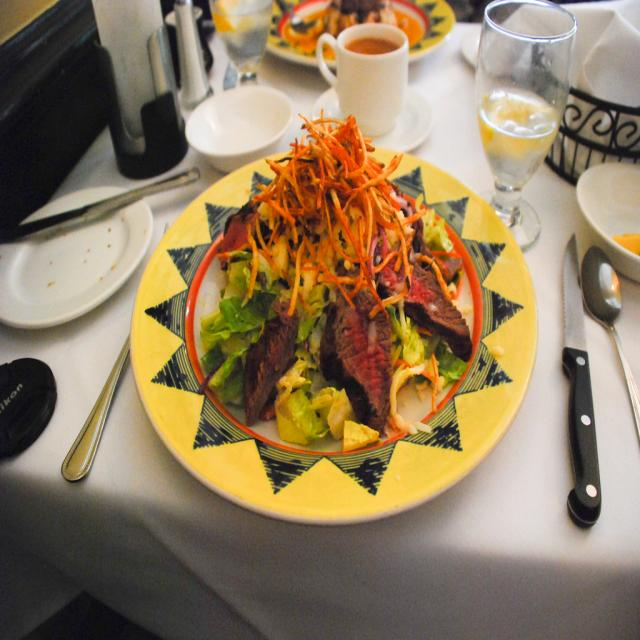Tea: (341, 35, 395, 58)
